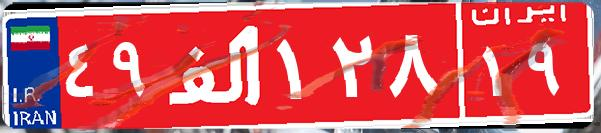1: (273, 28, 330, 110), (475, 38, 525, 113)
2: (330, 28, 385, 110)
4: (57, 26, 110, 107)
8: (385, 28, 445, 110)
9: (110, 28, 158, 105), (525, 38, 570, 115)
الف: (158, 15, 273, 115)
